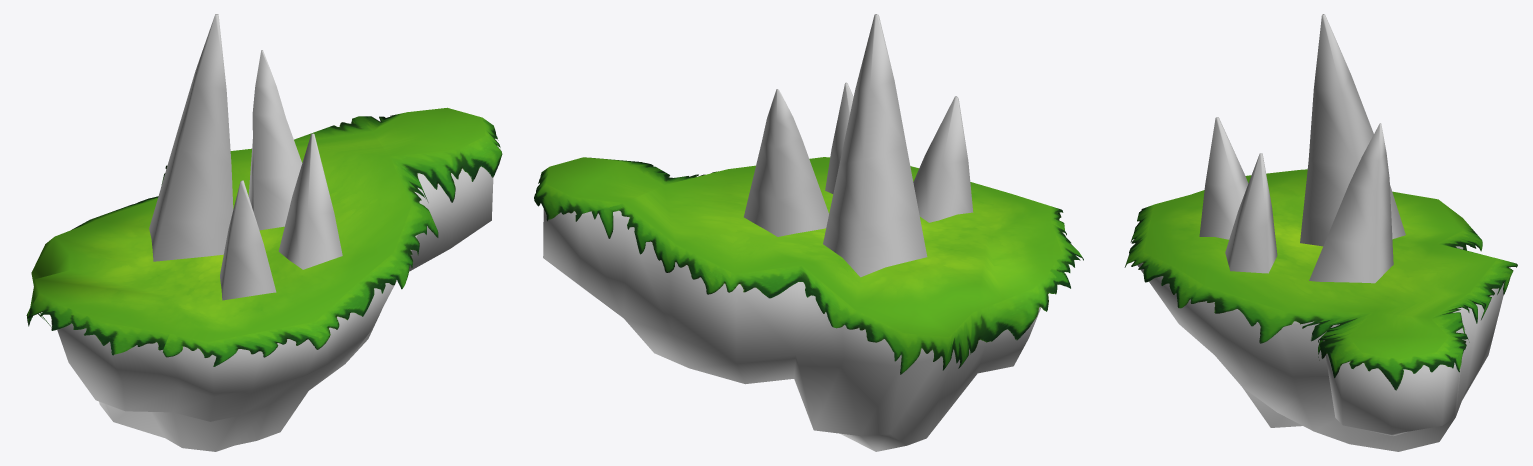
File: Island_Small_06.fbx
3 renders of one model, left to right at view 1: azimuth 30°, elevation 25°; view 2: azimuth 150°, elevation 25°; view 3: azimuth 270°, elevation 25°, orthographic. The views are drawn at different scales.
Visible parts, largest first — view 1: Island_Small_06; view 2: Island_Small_06; view 3: Island_Small_06.
Boxes of the visible parts, x1,y1,x2,y2 form: Island_Small_06: [26, 14, 502, 451]; Island_Small_06: [534, 14, 1083, 451]; Island_Small_06: [1124, 14, 1517, 451].
Size of the model in its own units: 1076 by 851 by 746.
